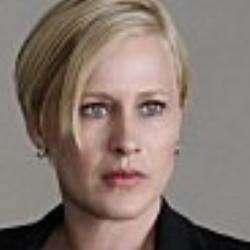face: (9, 4, 195, 230)
